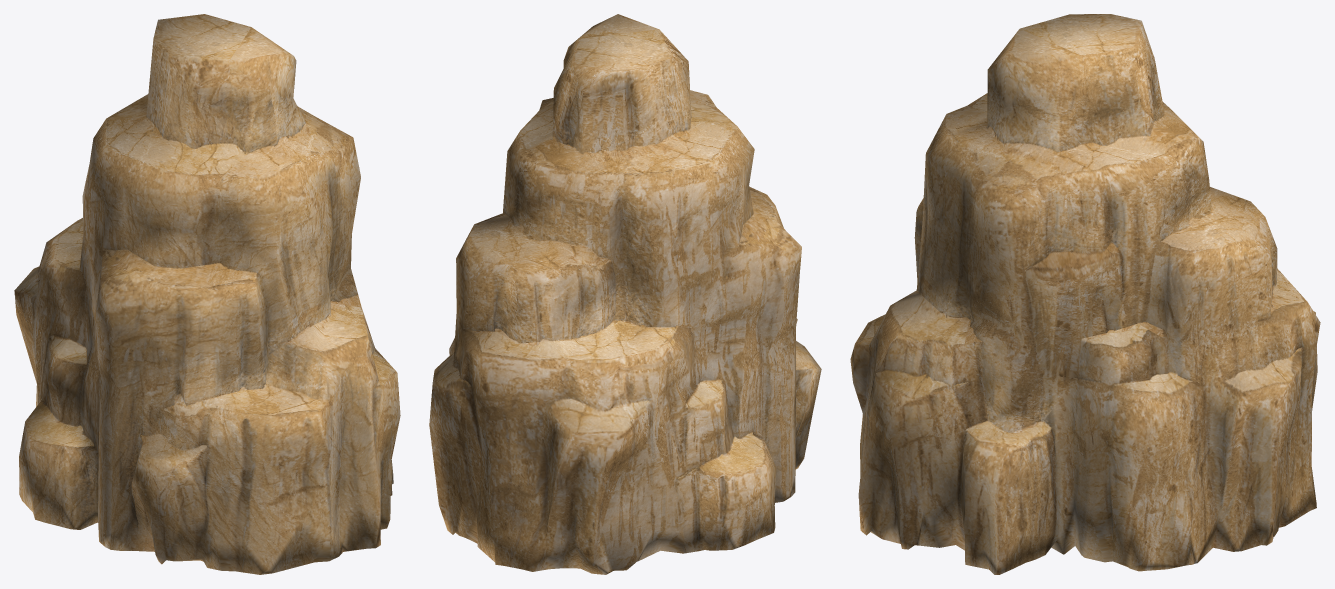
The model's file is Rock_02.glb.
3 renders of one model, left to right at view 1: azimuth 30°, elevation 25°; view 2: azimuth 150°, elevation 25°; view 3: azimuth 270°, elevation 25°, orthographic. The views are drawn at different scales.
Parts seen in each view (by area): view 1: Object_16; view 2: Object_16; view 3: Object_16.
Boxes of the visible parts, x1,y1,x2,y2 form: Object_16: (14,14,400,574); Object_16: (429,14,821,574); Object_16: (850,14,1320,574).
Bounding box in the file's own units: 12.02 × 16.85 × 15.24.
Materials: 1 (1 with a texture image).
